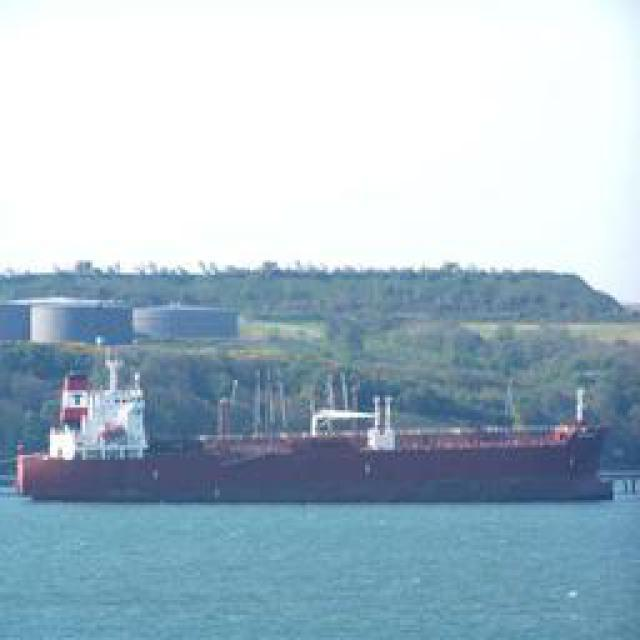Ship: (6, 395, 606, 505)
